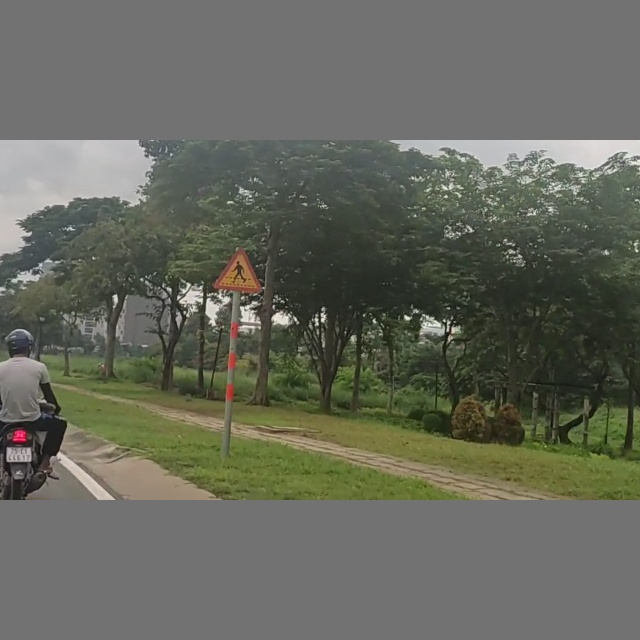W.224: (212, 248, 262, 292)
